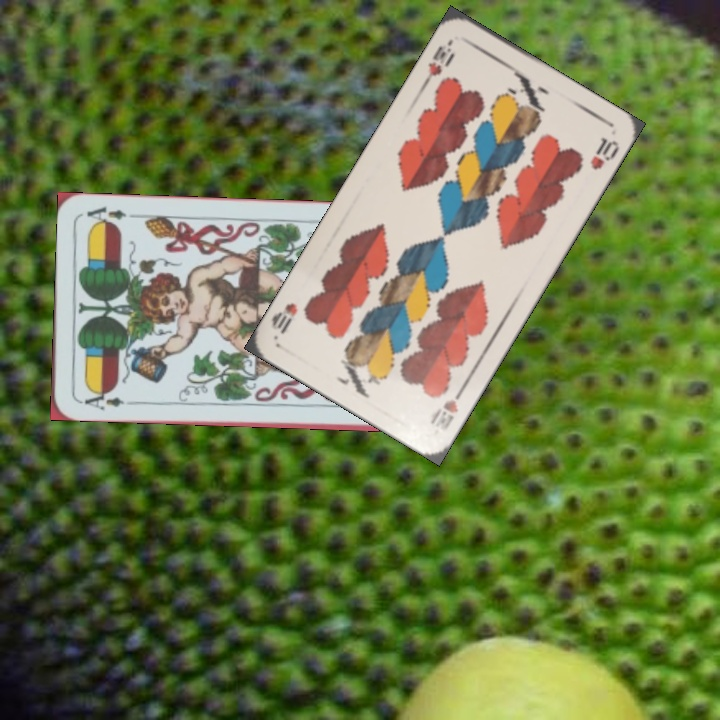EA: (75, 386, 126, 412)
H10: (426, 381, 469, 433), (419, 35, 458, 89)
